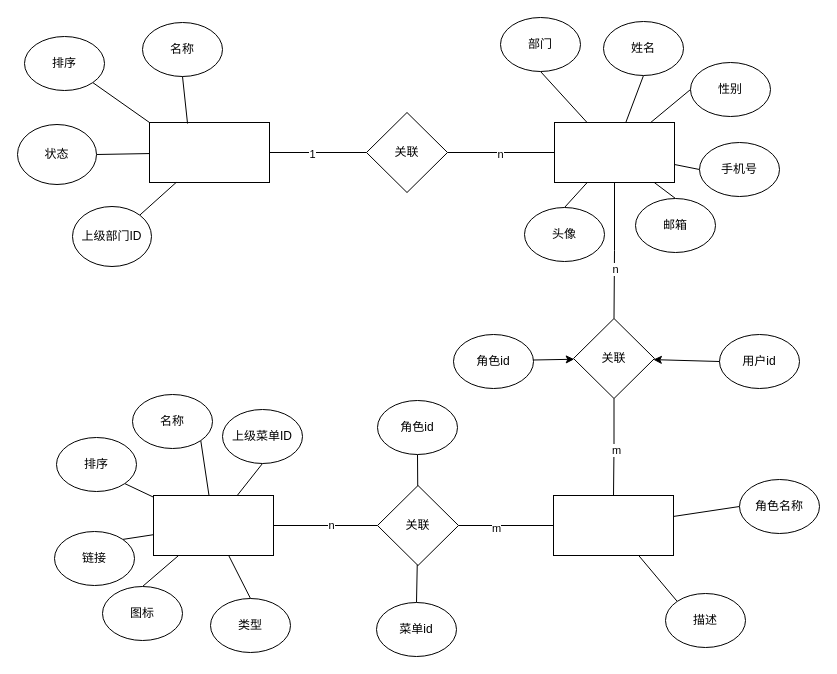
The diagram is 837 pixels wide and 674 high, and some of its shapes have lost their labels. The shapes that lost their labels are listed below. From the top down, each one's box as (x1, y1, x2, y2) in pixels, then its label:
(148, 122, 270, 182): 部门表
(554, 122, 674, 182): 用户表
(152, 494, 274, 556): 菜单
(552, 494, 674, 556): 角色
